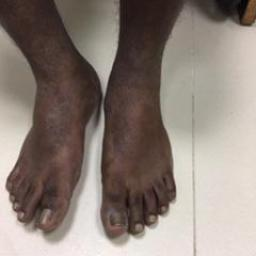Dorsal View -Both Feet-: (1, 38, 186, 246)
